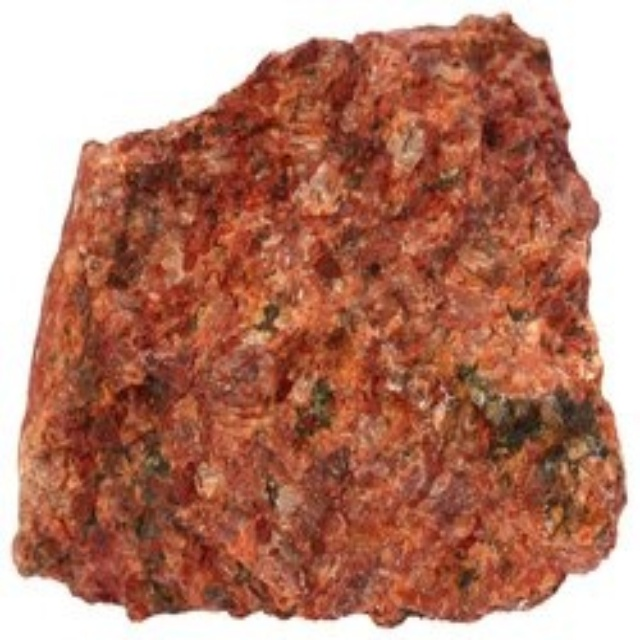obstacle: (15, 17, 622, 623)
